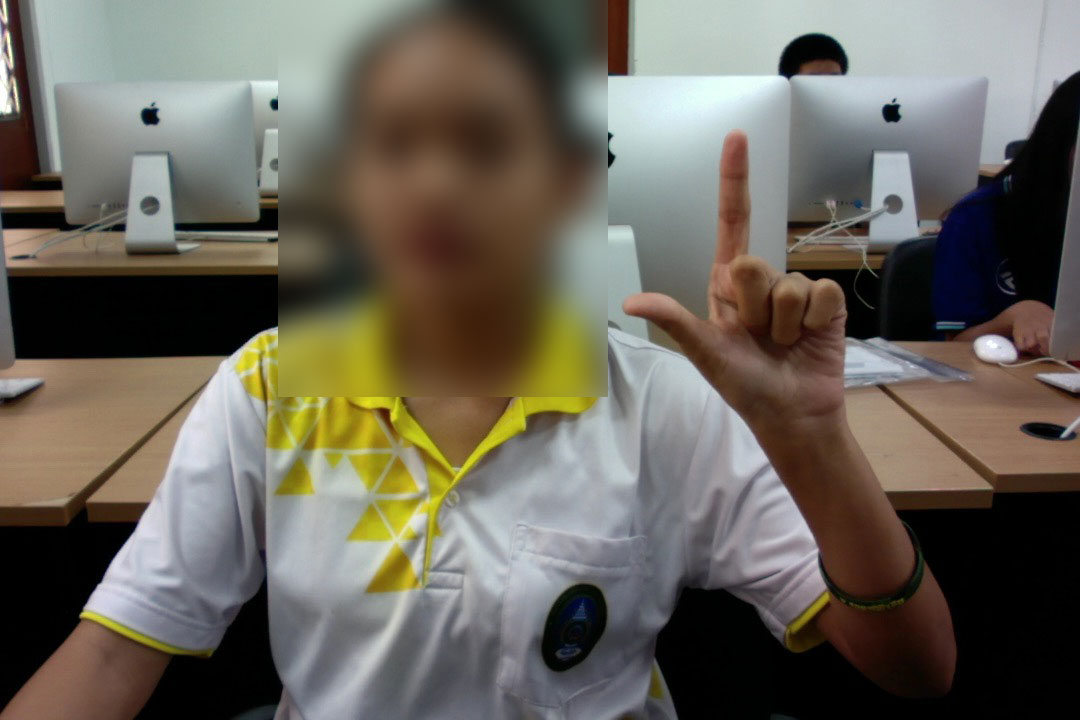lor: (609, 122, 890, 444)
